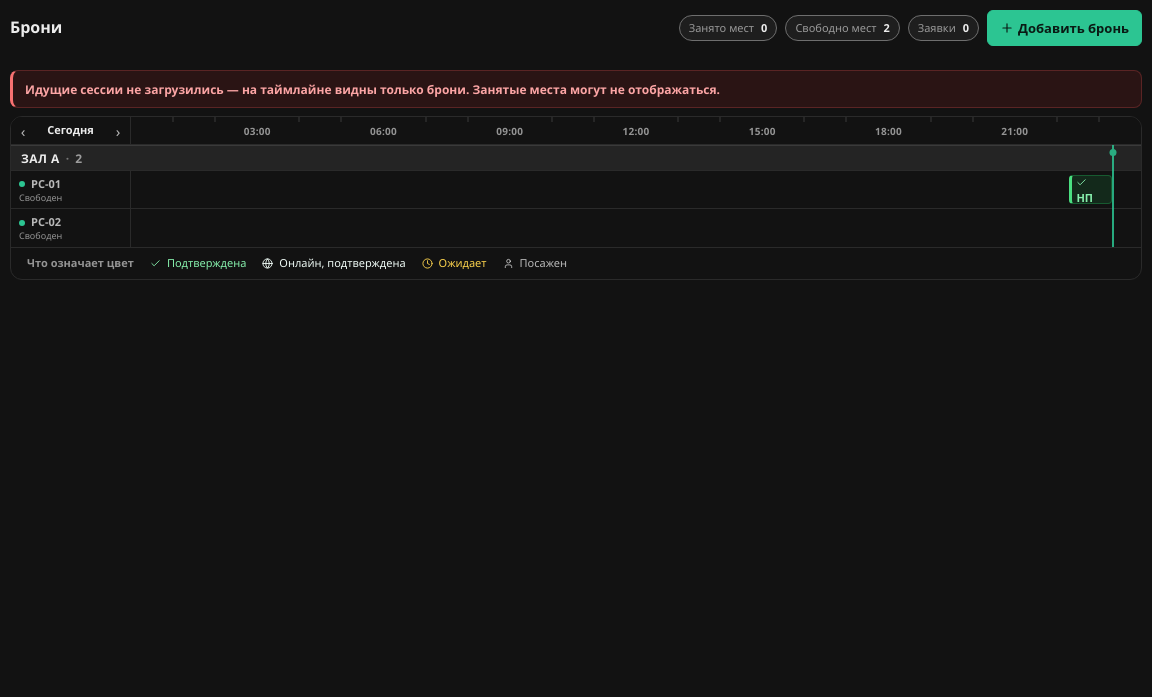
Test: BackendBookingWorkspace no-show › не выдаёт отсутствие удержания за нулевое удержание
Click the button with aria-label "Не приехавший гость" at [1090, 190], box 1069,175 -> 1112,204
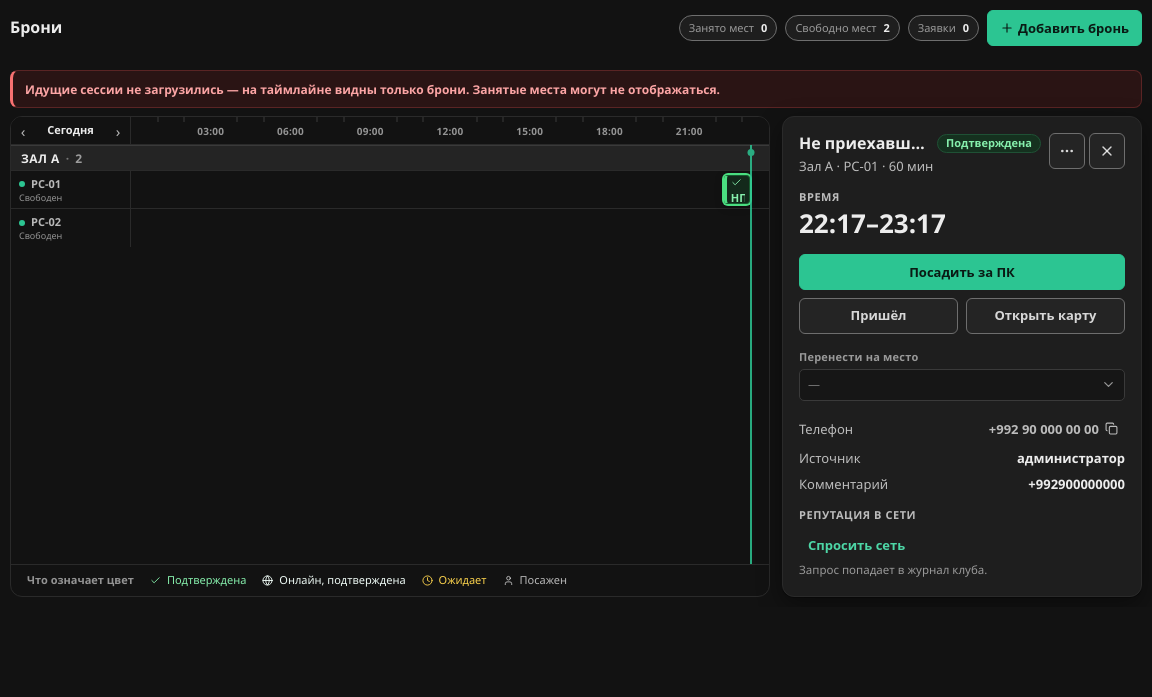
Click the button named "Действия с бронью" at [1067, 151], box 1049,133 -> 1085,169
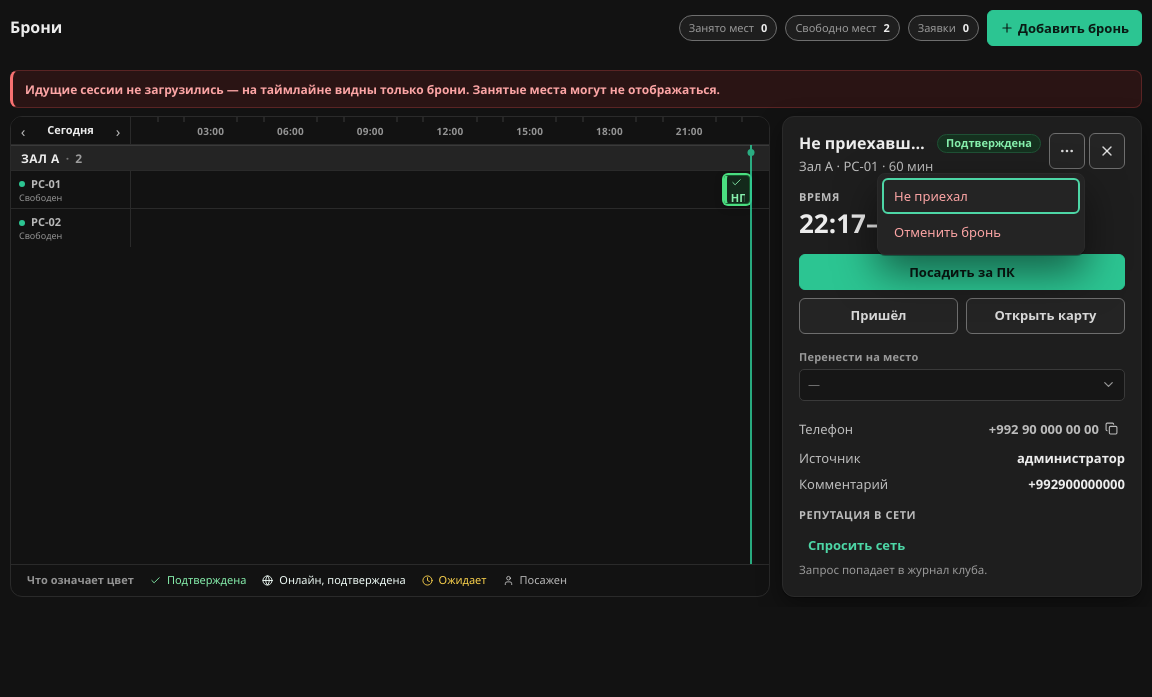
Click the menu item "Не приехал" at [981, 196], box 882,178 -> 1080,214
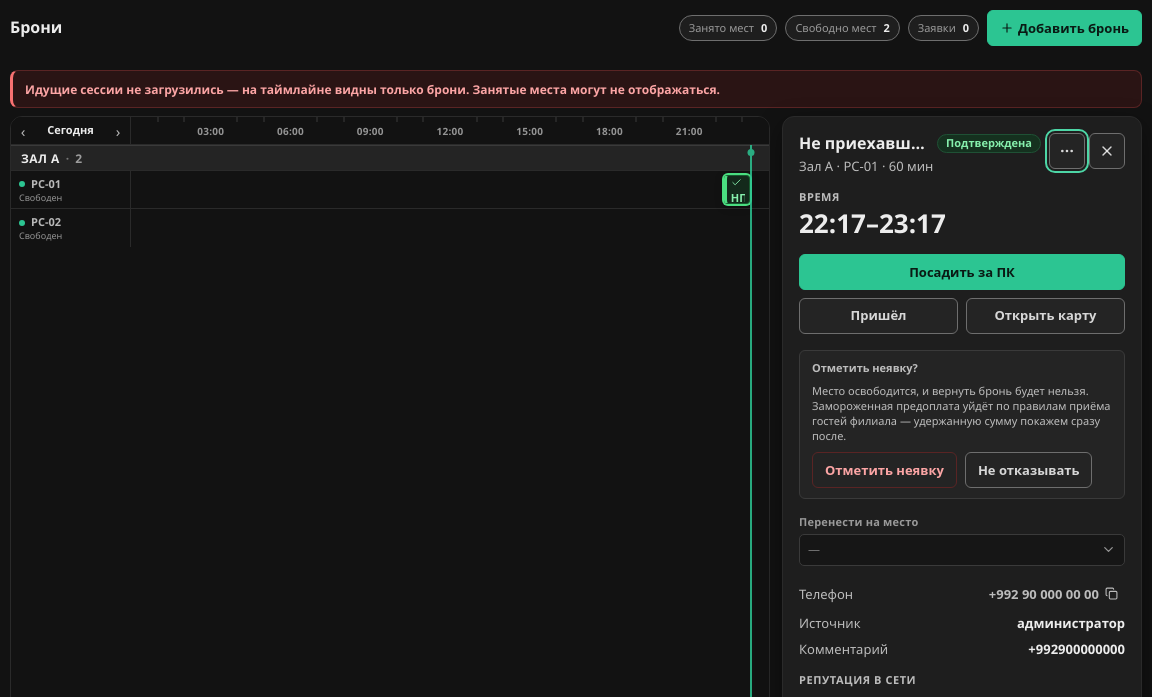
Click the button "Отметить неявку" at [884, 470], box 812,452 -> 957,488
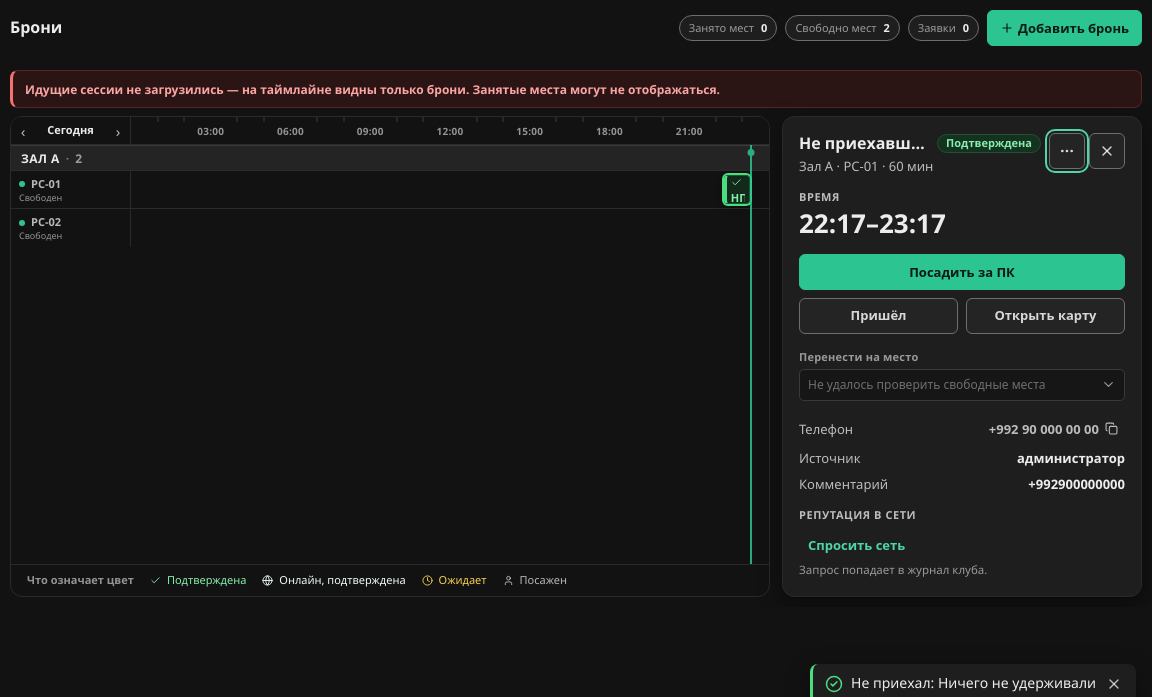
Expected: the text "Не приехал: Ничего не удерживали" is shown, 851,674 -> 1096,693
